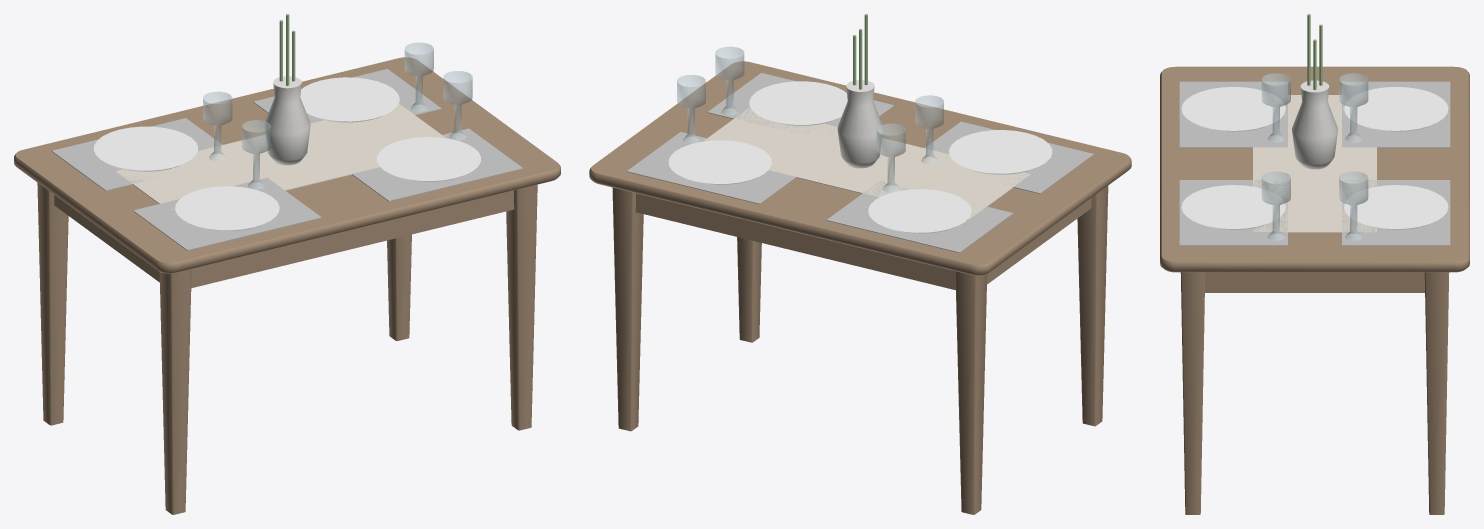
3 renders of one model, left to right at view 1: azimuth 30°, elevation 25°; view 2: azimuth 150°, elevation 25°; view 3: azimuth 270°, elevation 25°, orthographic.
Parts seen in each view (by area): view 1: Bàn ăn Dài bàn=1200; Rộng bàn=800; 4 ghế; view 2: Bàn ăn Dài bàn=1200; Rộng bàn=800; 4 ghế; view 3: Bàn ăn Dài bàn=1200; Rộng bàn=800; 4 ghế.
Part boxes in pixels (x1,y1,x2,y2): Bàn ăn Dài bàn=1200; Rộng bàn=800; 4 ghế: (14, 14, 560, 514); Bàn ăn Dài bàn=1200; Rộng bàn=800; 4 ghế: (589, 14, 1131, 514); Bàn ăn Dài bàn=1200; Rộng bàn=800; 4 ghế: (1160, 14, 1469, 514).
Bounding box in the file's own units: 1.2 × 1.17 × 0.8.
